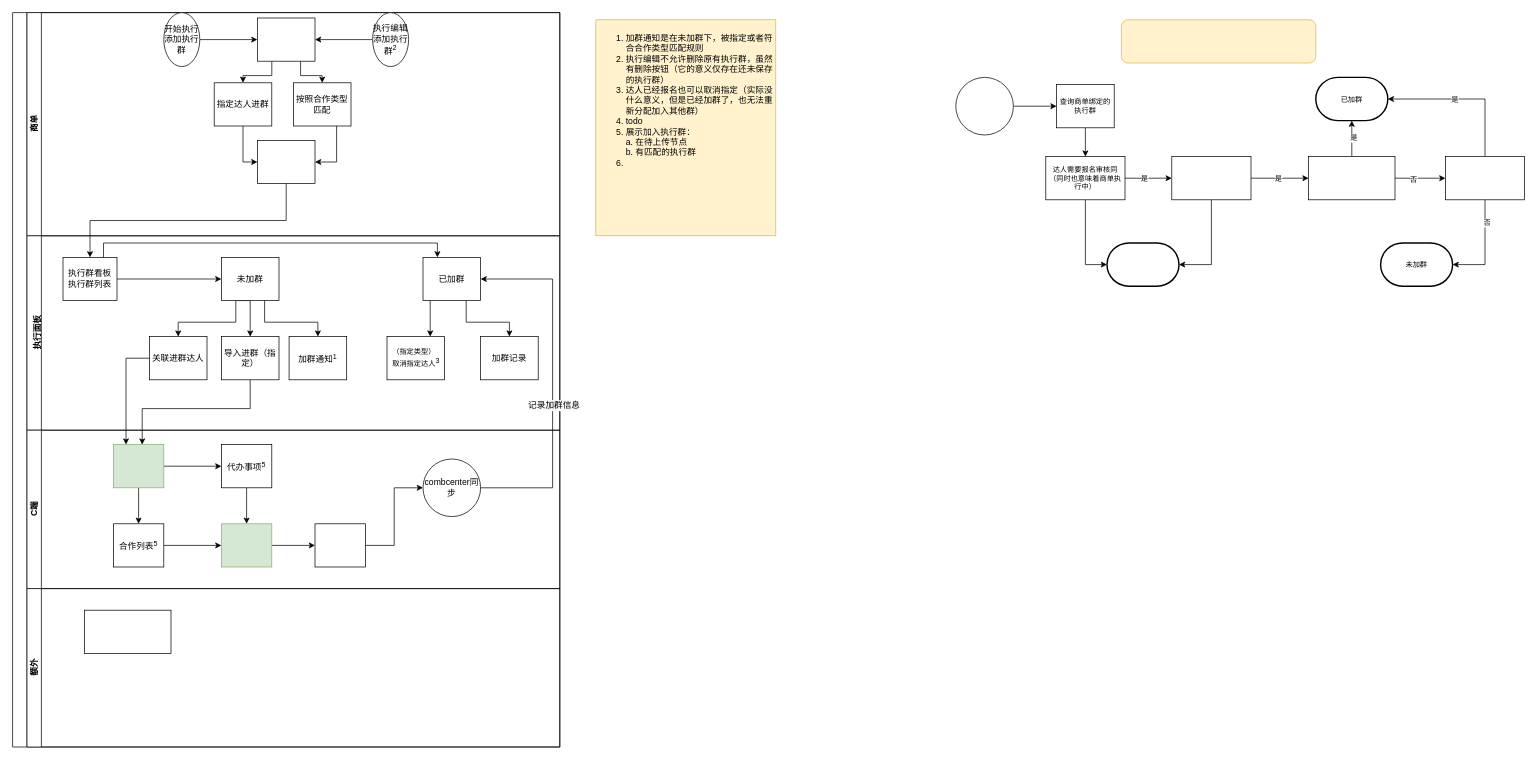
This 1537x760 diagram has some shape labels left out. The centre of each missing label's shape, as x and y in pixels:
不能加群 （未合作）: point 1142,264
先去combcenter拿到已加群的用户信息，然后和koc绑定微信比对，然后的继续用koc这边设置的小号比对: point 1218,41
合作详情: point 246,545
定时删除执行群: point 127,631
未加群查询逻辑: point 984,106
机构端给达人绑定小号微信（商单维度）进入执行群里 1: point 1485,178
查询可绑定群列表 4: point 286,39
查询是否有可加入的执行群 6: point 339,545
绑定群: point 286,162
达人合作在进行中 （未取消）: point 1211,178
达人展示（非功能）: point 138,466
达人绑定的微信是否在微信群里1: point 1351,178
